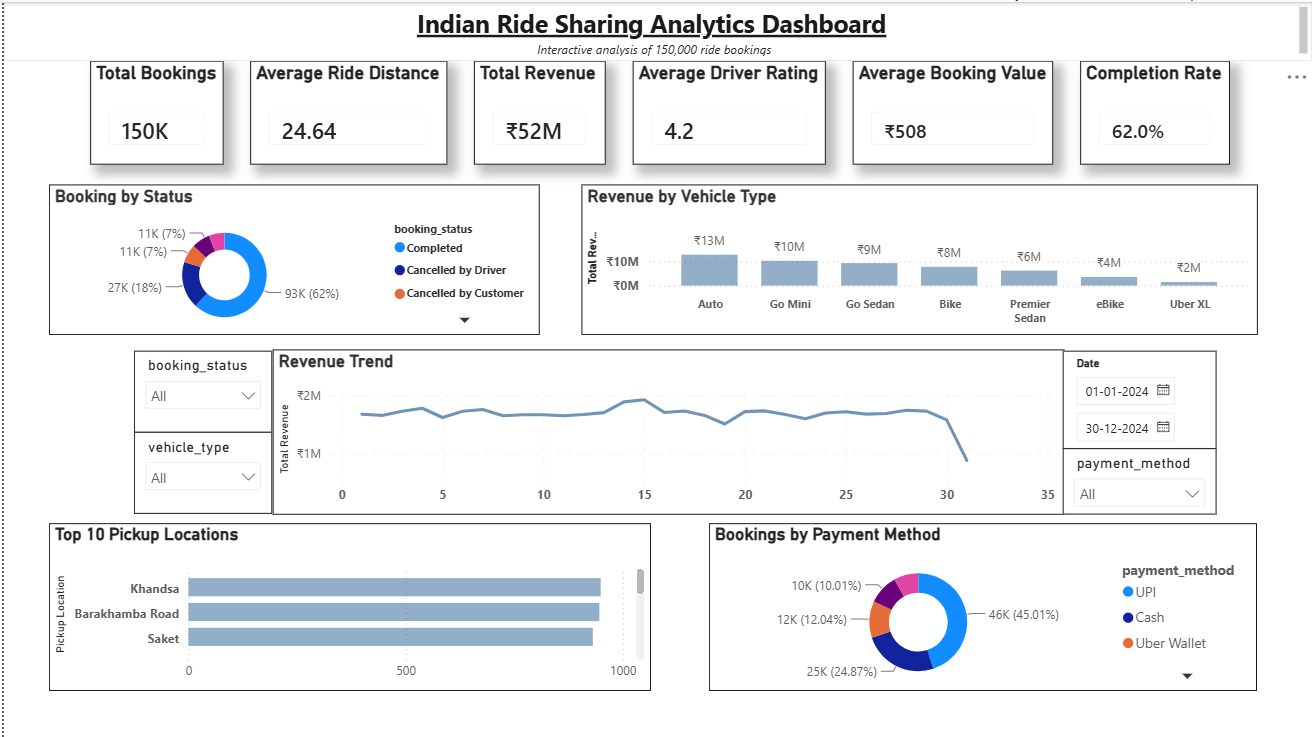

What the dashboard file says about the page in this screenshot:
{"tool":"powerbi","page":{"name":"Page 1","canvas":[1280,720],"ordinal":0},"visuals":[{"type":"cardVisual","title":"Total Bookings","fields":{"Data":["ride_cleaned.Total Bookings"]},"box":[84.3,58.1,130.7,101.5],"z":0},{"type":"cardVisual","title":"Total Revenue","fields":{"Data":["ride_cleaned.Total Revenue"]},"box":[459.8,58.1,129,101.5],"z":1000},{"type":"cardVisual","title":"Average Booking Value","fields":{"Data":["ride_cleaned.Average Booking Value"]},"box":[830.2,58.1,196,101.5],"z":2000},{"type":"cardVisual","title":"Average Ride Distance","fields":{"Data":["ride_cleaned.Average Ride Distance"]},"box":[241.1,58.1,192.6,101.5],"z":3000},{"type":"cardVisual","title":"Average Driver Rating","fields":{"Data":["ride_cleaned.Average Driver Rating"]},"box":[614.9,58.1,189.1,101.5],"z":4000},{"type":"cardVisual","title":"Completion Rate","fields":{"Data":["ride_cleaned.Completion Rate"]},"box":[1052.4,58.1,146.2,101.5],"z":5000},{"type":"donutChart","title":"Booking by Status","fields":{"Category":["ride_cleaned.booking_status"],"Y":["ride_cleaned.Total Bookings"]},"box":[43.8,178.8,480,147.1],"z":6000},{"type":"clusteredColumnChart","title":"Revenue by Vehicle Type","fields":{"Category":["ride_cleaned.vehicle_type"],"Y":["ride_cleaned.Total Revenue"]},"box":[565,178.8,661.4,147.1],"z":7000},{"type":"lineChart","title":"Revenue Trend","fields":{"Y":["ride_cleaned.Total Revenue"],"Category":["ride_cleaned.date.Variation.Date Hierarchy.Day"]},"box":[262.5,340,774.3,161.4],"z":8000},{"type":"barChart","title":"Top 10 Pickup Locations","fields":{"Category":["ride_cleaned.pickup_location"],"Y":["ride_cleaned.Total Bookings"]},"box":[43.8,510,588.8,163.8],"z":9000},{"type":"donutChart","title":"Bookings by Payment Method","fields":{"Category":["ride_cleaned.payment_method"],"Y":["ride_cleaned.Total Bookings"]},"box":[690,510,536.2,163.8],"z":10000},{"type":"slicer","fields":{"Values":["ride_cleaned.date"]},"box":[1036.2,341.2,150,96.2],"z":11000},{"type":"slicer","fields":{"Values":["ride_cleaned.vehicle_type"]},"box":[127.5,421.2,135,80],"z":12000},{"type":"slicer","fields":{"Values":["ride_cleaned.booking_status"]},"box":[127.5,341.2,135,80],"z":13000},{"type":"slicer","fields":{"Values":["ride_cleaned.payment_method"]},"box":[1036.2,436.2,150,65],"z":14000},{"type":"textbox","box":[0,0,1280,57.5],"z":15000}]}

Visuals, with their boxes in screenshot pixels (x1, y1, x2, y2), scaled from the page's 1280x720 canvas onto the 1312x737 screenshot:
"Total Bookings" cardVisual: l=86, t=59, r=220, b=163
"Total Revenue" cardVisual: l=471, t=59, r=604, b=163
"Average Booking Value" cardVisual: l=851, t=59, r=1052, b=163
"Average Ride Distance" cardVisual: l=247, t=59, r=445, b=163
"Average Driver Rating" cardVisual: l=630, t=59, r=824, b=163
"Completion Rate" cardVisual: l=1079, t=59, r=1229, b=163
"Booking by Status" donutChart: l=45, t=183, r=537, b=334
"Revenue by Vehicle Type" clusteredColumnChart: l=579, t=183, r=1257, b=334
"Revenue Trend" lineChart: l=269, t=348, r=1063, b=513
"Top 10 Pickup Locations" barChart: l=45, t=522, r=648, b=690
"Bookings by Payment Method" donutChart: l=707, t=522, r=1257, b=690
slicer - ride_cleaned.date: l=1062, t=349, r=1216, b=448
slicer - ride_cleaned.vehicle_type: l=131, t=431, r=269, b=513
slicer - ride_cleaned.booking_status: l=131, t=349, r=269, b=431
slicer - ride_cleaned.payment_method: l=1062, t=446, r=1216, b=513
textbox: l=0, t=0, r=1311, b=59
